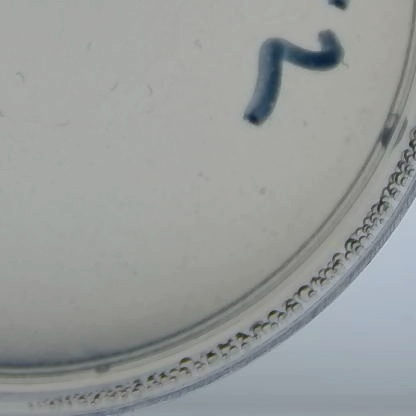worm: (9, 63, 33, 87), (141, 75, 158, 104), (107, 73, 127, 97), (192, 169, 213, 185), (53, 117, 75, 128), (193, 35, 208, 51), (340, 63, 355, 76)
